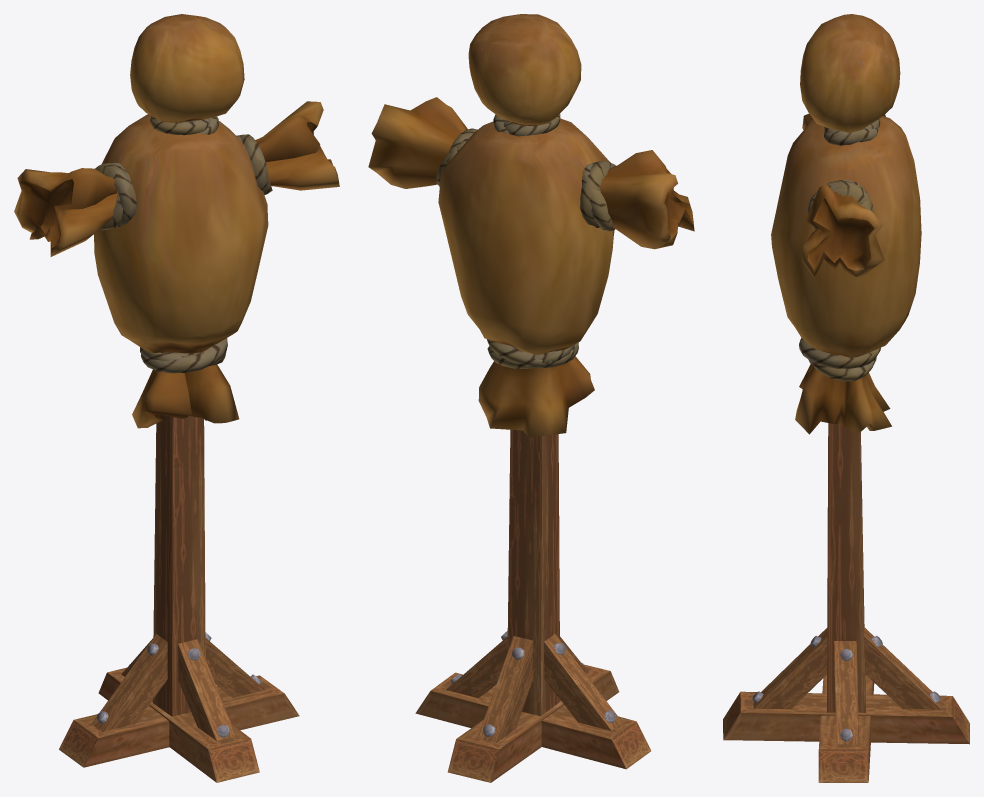
File: training_dummy.glb
3 views of the same model, side by side, from view 1: azimuth 30°, elevation 25°; view 2: azimuth 150°, elevation 25°; view 3: azimuth 270°, elevation 25° (orthographic).
Visible parts, largest first — view 1: Dummy; view 2: Dummy; view 3: Dummy.
Part boxes in pixels (left/top/right/bottom): Dummy: left=14, top=14, right=339, bottom=782; Dummy: left=368, top=14, right=694, bottom=782; Dummy: left=723, top=14, right=969, bottom=782.
Size of the model in its own units: 0.8084 by 1.86 by 0.5847.
3 materials, 3 textured.
